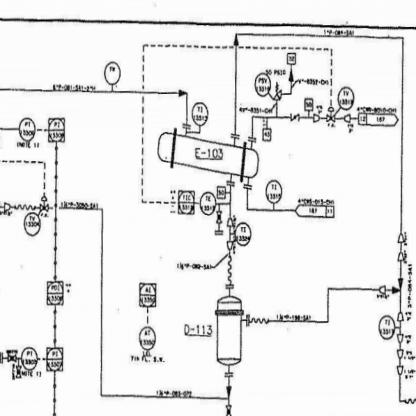LMI: (192, 98, 216, 126), (377, 312, 396, 342), (138, 325, 160, 350), (103, 58, 124, 84), (337, 84, 355, 112), (265, 176, 283, 204), (235, 220, 253, 248), (18, 116, 36, 142), (198, 191, 216, 217), (254, 72, 272, 98), (24, 212, 41, 238), (21, 347, 38, 372)
TAG: (136, 278, 159, 308), (177, 187, 195, 218), (48, 116, 66, 144), (45, 280, 64, 306), (46, 347, 65, 372)
